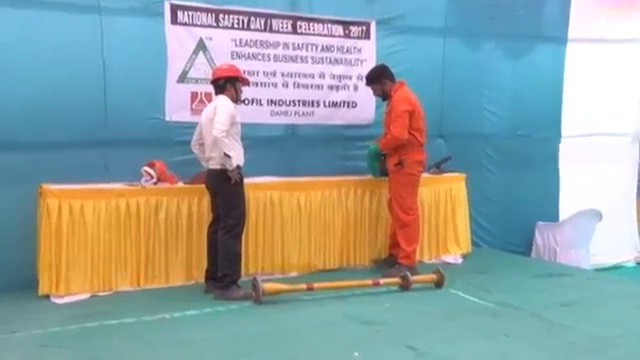helmet: (209, 62, 250, 91)
helmet_off: (365, 63, 398, 102)
helmet_on: (209, 61, 253, 105)
person: (190, 61, 254, 302), (364, 63, 428, 280)
